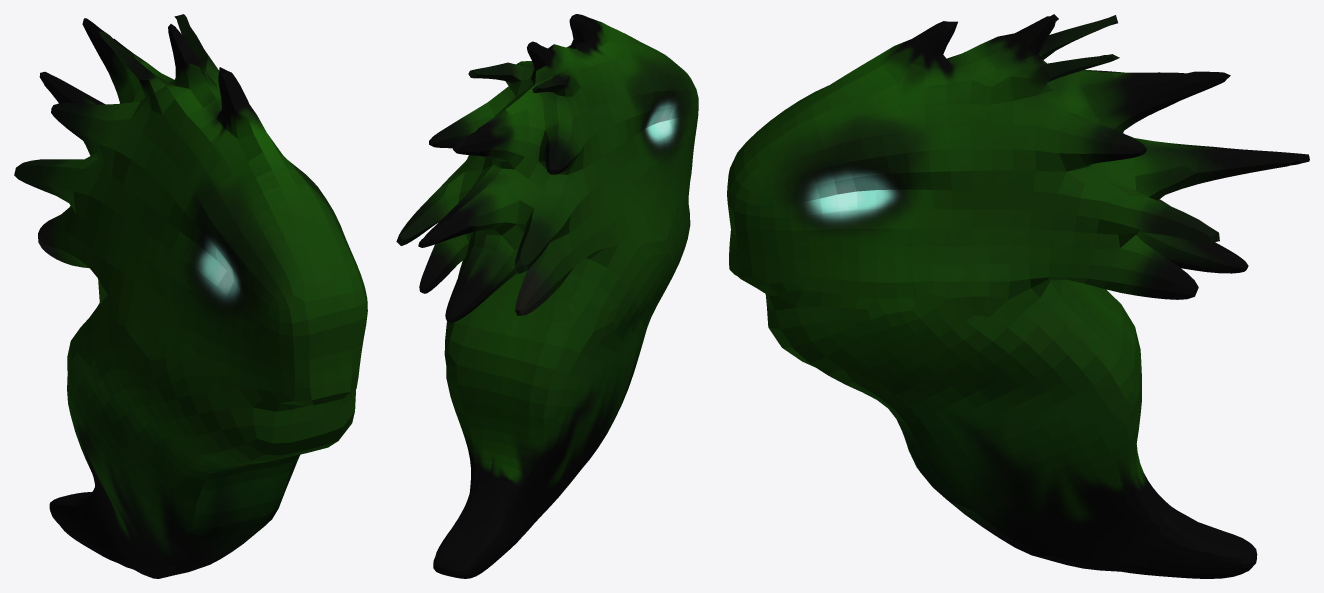
The model's file is GreenGhost.fbx.
The picture shows the model from 3 angles, left to right: view 1: azimuth 30°, elevation 25°; view 2: azimuth 150°, elevation 25°; view 3: azimuth 270°, elevation 25°; orthographic projection. The views are drawn at different scales.
Parts seen in each view (by area): view 1: enemyTmudRetop2:polySurface1; view 2: enemyTmudRetop2:polySurface1; view 3: enemyTmudRetop2:polySurface1.
Boxes of the visible parts, x1,y1,x2,y2 form: enemyTmudRetop2:polySurface1: (14,14,367,578); enemyTmudRetop2:polySurface1: (396,14,698,578); enemyTmudRetop2:polySurface1: (727,14,1309,578).
Size of the model in its own units: 0.3254 by 0.9195 by 0.8694.
Materials: 1 (1 with a texture image).
